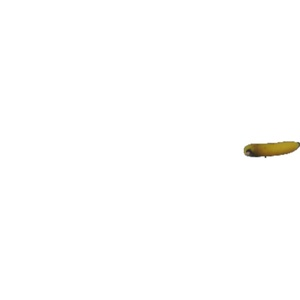banana: (240, 138, 298, 160)
